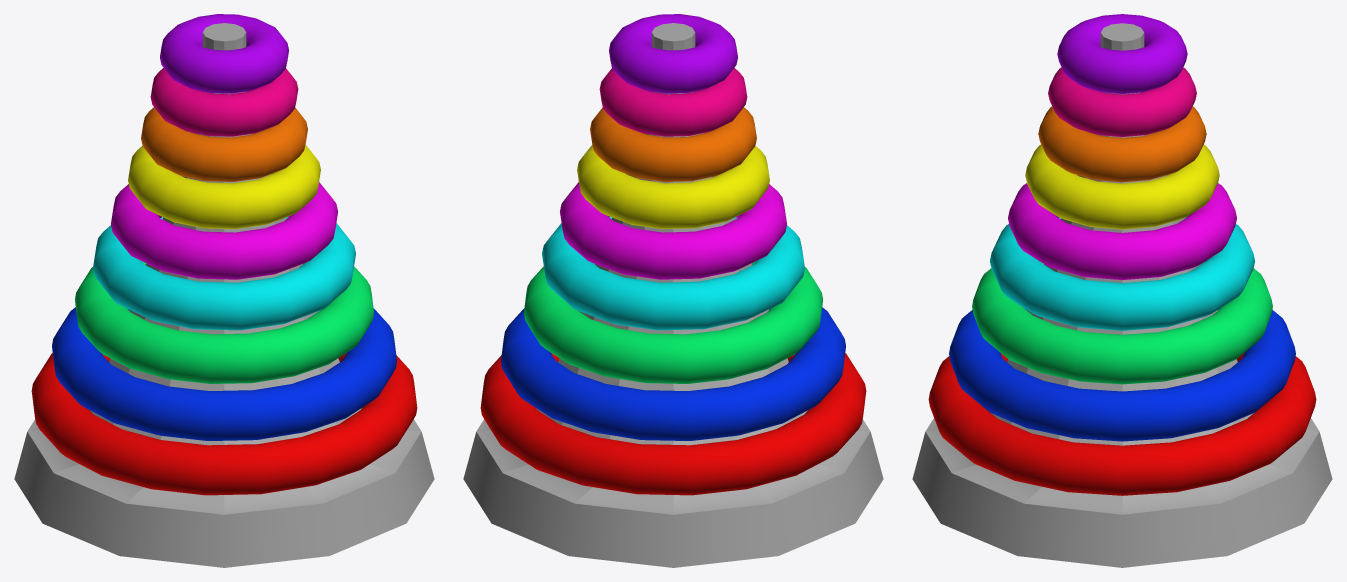
File: torreHanoi.fbx
3 renders of one model, left to right at view 1: azimuth 30°, elevation 25°; view 2: azimuth 150°, elevation 25°; view 3: azimuth 270°, elevation 25°, orthographic.
Visible parts, largest first — view 1: pCylinder1, pTorus9, pTorus8, pTorus7, pTorus6, pTorus5, pTorus4, pTorus3, pTorus1, pTorus2; view 2: pCylinder1, pTorus9, pTorus8, pTorus7, pTorus6, pTorus5, pTorus4, pTorus3, pTorus1, pTorus2; view 3: pCylinder1, pTorus9, pTorus8, pTorus7, pTorus6, pTorus5, pTorus4, pTorus3, pTorus1, pTorus2.
Boxes of the visible parts, x1,y1,x2,y2 form: pCylinder1: [14, 23, 434, 567]; pTorus9: [31, 353, 417, 495]; pTorus8: [52, 307, 396, 440]; pTorus7: [75, 261, 373, 383]; pTorus6: [93, 217, 355, 330]; pTorus5: [111, 182, 337, 279]; pTorus4: [128, 144, 320, 229]; pTorus3: [141, 107, 307, 181]; pTorus1: [160, 14, 288, 93]; pTorus2: [150, 68, 298, 136]; pCylinder1: [463, 23, 883, 567]; pTorus9: [480, 353, 866, 495]; pTorus8: [501, 307, 845, 440]; pTorus7: [524, 261, 822, 383]; pTorus6: [542, 217, 804, 330]; pTorus5: [560, 182, 786, 279]; pTorus4: [577, 144, 769, 229]; pTorus3: [590, 107, 756, 181]; pTorus1: [609, 14, 737, 93]; pTorus2: [599, 68, 747, 136]; pCylinder1: [912, 23, 1332, 567]; pTorus9: [928, 353, 1316, 495]; pTorus8: [949, 308, 1295, 441]; pTorus7: [972, 261, 1272, 384]; pTorus6: [990, 217, 1254, 330]; pTorus5: [1008, 183, 1236, 280]; pTorus4: [1025, 144, 1219, 229]; pTorus3: [1038, 106, 1206, 182]; pTorus1: [1057, 14, 1187, 93]; pTorus2: [1048, 67, 1196, 136].
Size of the model in its own units: 3.87 by 4.54 by 3.87.
